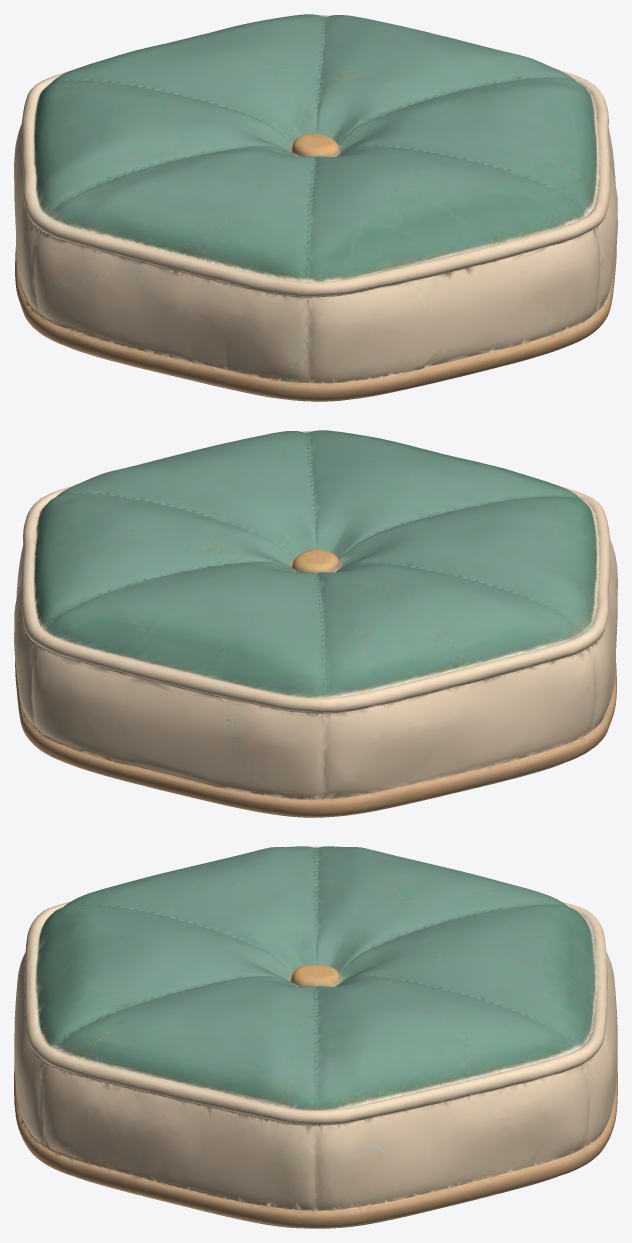
File: majlis-cushion-variant-09-teal-hexagonal-quilt.glb
The picture shows the model from 3 angles, top to bottom: view 1: azimuth 30°, elevation 25°; view 2: azimuth 150°, elevation 25°; view 3: azimuth 270°, elevation 25°; orthographic projection.
Parts seen in each view (by area): view 1: mesh_node; view 2: mesh_node; view 3: mesh_node.
Boxes of the visible parts, x1=… form: mesh_node: x1=14, y1=14, x2=617, y2=401; mesh_node: x1=14, y1=430, x2=617, y2=817; mesh_node: x1=14, y1=846, x2=617, y2=1228.
Size of the model in its own units: 1.9 by 0.509 by 1.77.
Materials: 1 (1 with a texture image).
